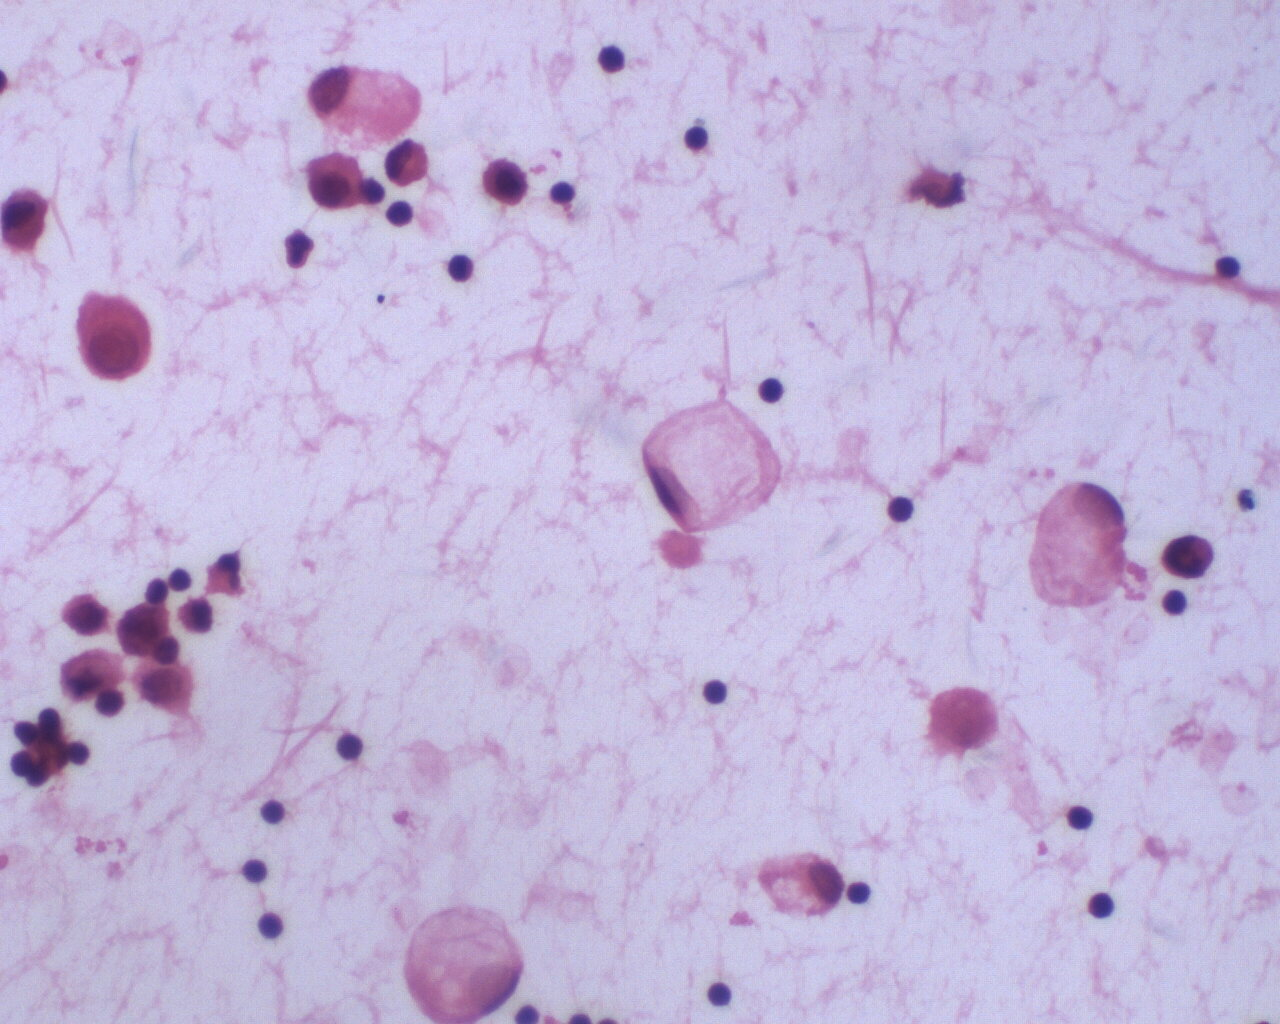histo: (644, 398, 788, 533), (403, 903, 528, 1024), (1026, 475, 1127, 616), (305, 59, 424, 145)
lymph: (441, 249, 485, 292), (588, 38, 633, 75), (1063, 795, 1100, 837), (880, 489, 920, 525), (334, 728, 370, 766), (1085, 886, 1123, 921), (677, 119, 713, 156), (256, 792, 287, 833), (702, 976, 736, 1013), (254, 907, 286, 942), (240, 856, 274, 887), (696, 674, 729, 704), (1161, 589, 1189, 620)
meso: (69, 293, 159, 386), (474, 152, 543, 213), (303, 147, 365, 213)
